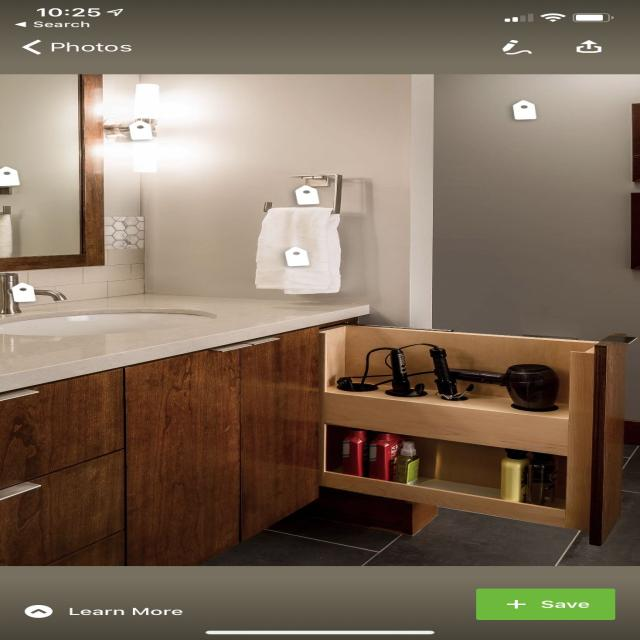dryer: (439, 351, 568, 428)
